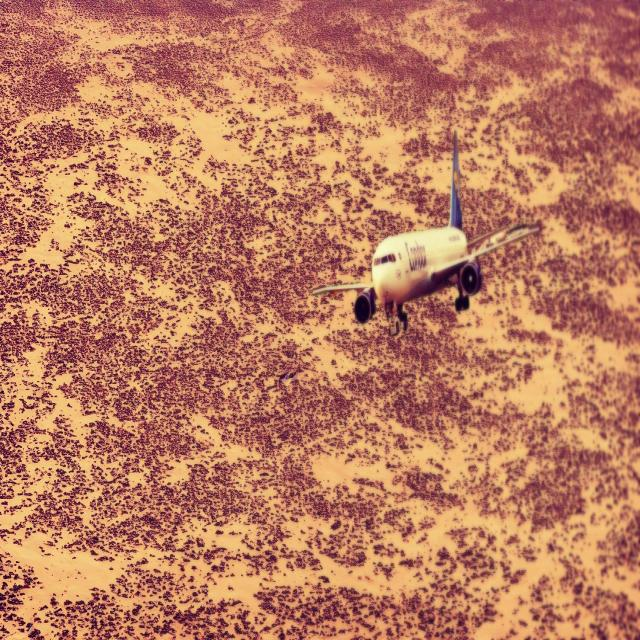airplane: (311, 128, 539, 337)
